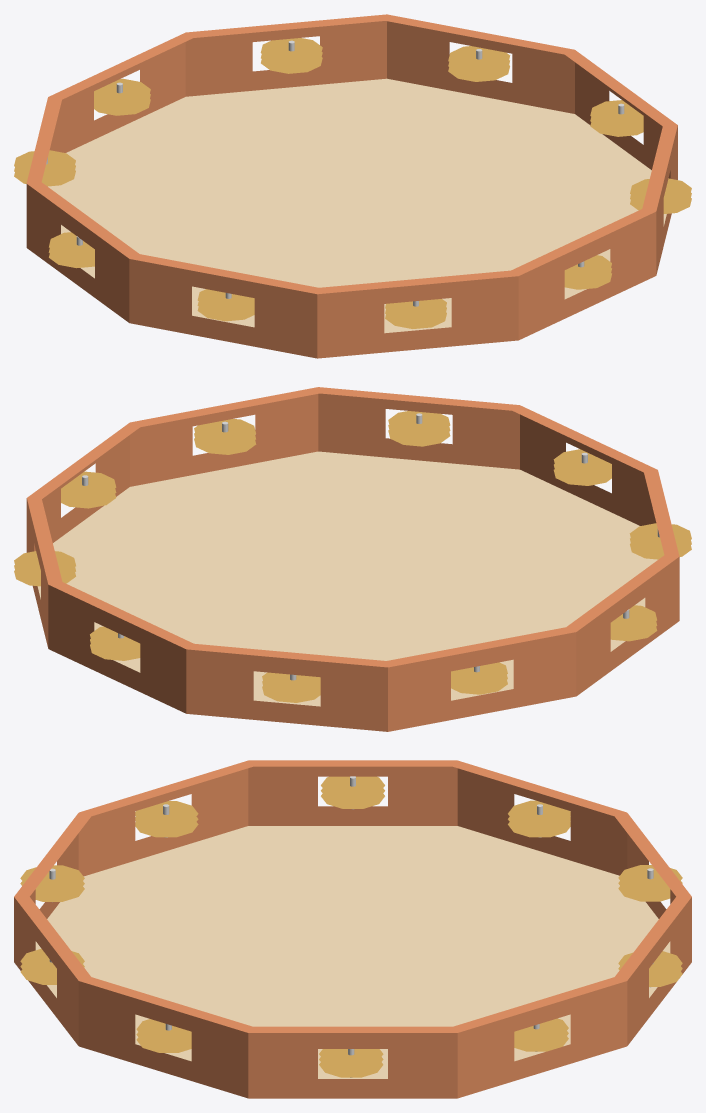
File: Tambourine.glb
The picture shows the model from 3 angles, top to bottom: view 1: azimuth 30°, elevation 25°; view 2: azimuth 150°, elevation 25°; view 3: azimuth 270°, elevation 25°; orthographic projection.
Visible parts, largest first — view 1: DrumHead, WoodenBody, Jingle.003, Jingle.004, Jingle.002, Jingle.005, Jingle.008, Jingle.009, Jingle.001, Jingle, Jingle.007, Jingle.006; view 2: DrumHead, WoodenBody, Jingle.007, Jingle.006, Jingle.008, Jingle.005, Jingle.002, Jingle.001, Jingle.009, Jingle, Jingle.003, Jingle.004; view 3: DrumHead, WoodenBody, Jingle.009, Jingle.001, Jingle, Jingle.005, Jingle.002, Jingle.008, Jingle.006, Jingle.004, Jingle.007, Jingle.003.
Part boxes in pixels (x1,y1,x2,y2): DrumHead: [48, 78, 666, 333]; WoodenBody: [26, 14, 677, 358]; Jingle.003: [260, 38, 322, 73]; Jingle.004: [448, 46, 510, 81]; Jingle.002: [94, 78, 150, 115]; Jingle.005: [590, 100, 643, 136]; Jingle.008: [385, 299, 446, 328]; Jingle.009: [197, 289, 254, 321]; Jingle.001: [14, 150, 75, 186]; Jingle: [48, 232, 94, 268]; Jingle.007: [564, 255, 611, 289]; Jingle.006: [630, 178, 691, 213]; DrumHead: [37, 451, 657, 706]; WoodenBody: [26, 387, 679, 731]; Jingle.007: [388, 411, 450, 446]; Jingle.006: [194, 419, 256, 454]; Jingle.008: [553, 449, 611, 485]; Jingle.005: [61, 471, 116, 508]; Jingle.002: [262, 672, 320, 702]; Jingle.001: [451, 662, 507, 694]; Jingle.009: [629, 523, 691, 559]; Jingle: [610, 605, 657, 641]; Jingle.003: [90, 626, 140, 660]; Jingle.004: [14, 551, 75, 586]; DrumHead: [35, 826, 670, 1078]; WoodenBody: [14, 760, 691, 1098]; Jingle.009: [135, 801, 198, 837]; Jingle.001: [508, 800, 570, 837]; Jingle: [321, 776, 384, 809]; Jingle.005: [319, 1049, 383, 1077]; Jingle.002: [618, 865, 682, 901]; Jingle.008: [20, 865, 84, 902]; Jingle.006: [136, 1019, 191, 1052]; Jingle.004: [514, 1018, 568, 1051]; Jingle.007: [20, 948, 84, 984]; Jingle.003: [618, 951, 682, 987].
Bounding box in the file's own units: 2.06 × 0.2132 × 2.
